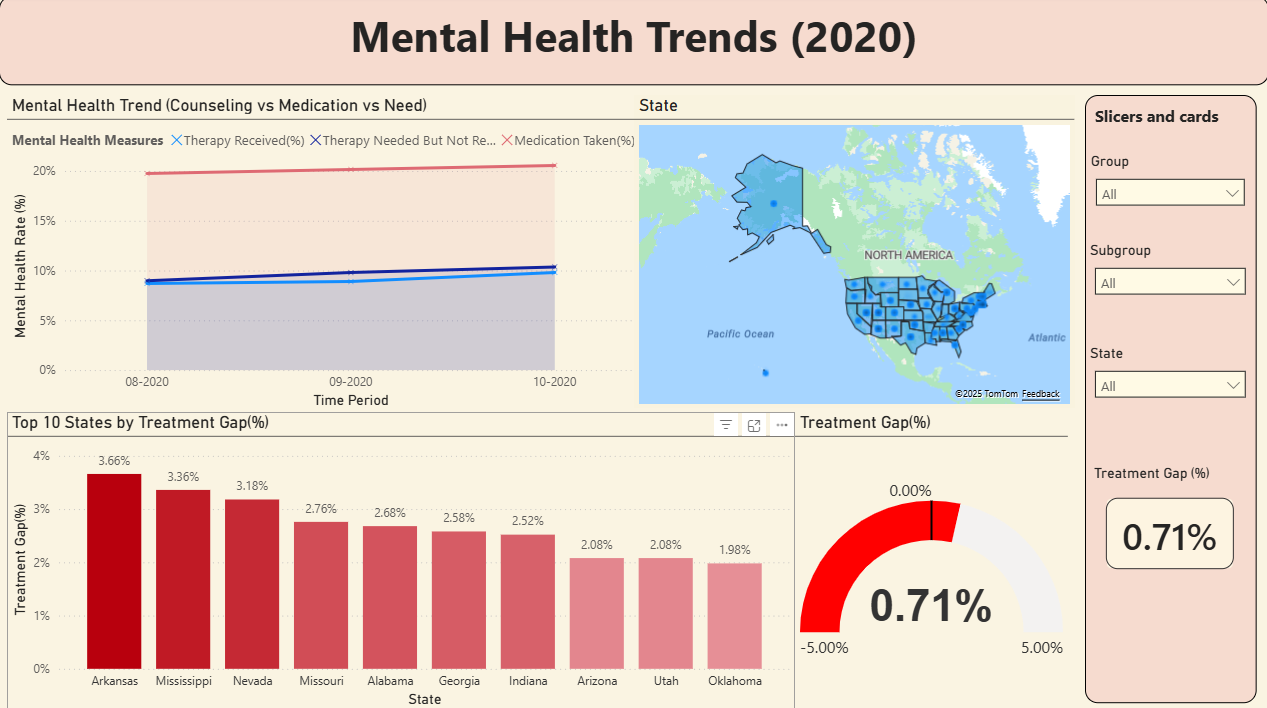

The dashboard page shown, as its layout file describes it:
{"tool":"powerbi","page":{"name":"Page 1","canvas":[1280,720],"ordinal":0},"visuals":[{"type":"lineChart","title":"Mental Health Trend (Counseling vs Medication vs Need)","fields":{"Category":["Calendar.YearMonth"],"Y":["Mental_Health_Care_in_the_Last_4_Weeks.TherapyReceived%","Mental_Health_Care_in_the_Last_4_Weeks.TherapyNeededButNotReceived%","Mental_Health_Care_in_the_Last_4_Weeks.MedicationTaken%"]},"box":[10.5,99.9,629.5,319.4],"z":0},{"type":"slicer","title":"State Filter","fields":{"Values":["Mental_Health_Care_in_the_Last_4_Weeks.State"]},"box":[1094.2,286.9,173.1,82.5],"z":1000},{"type":"slicer","title":"Group Filter","fields":{"Values":["Mental_Health_Care_in_the_Last_4_Weeks.Group"]},"box":[1094.2,99.9,170.7,82.5],"z":2000},{"type":"slicer","title":"Subgroup Filter","fields":{"Values":["Mental_Health_Care_in_the_Last_4_Weeks.Subgroup"]},"box":[1094.2,191.7,173.1,84.8],"z":3000},{"type":"textbox","box":[0,0,1280,89.7],"z":4000},{"type":"azureMap","fields":{"Category":["Mental_Health_Care_in_the_Last_4_Weeks.State"]},"box":[640,99.9,443.7,314.8],"z":5000},{"type":"cardVisual","title":"Treatment Gap (%)","fields":{"Data":["Mental_Health_Care_in_the_Last_4_Weeks.Treatment Gap(%)"]},"box":[1077.9,414.7,189.3,146.4],"z":6000},{"type":"clusteredColumnChart","title":"Top 10 States by Treatment Gap(%)","fields":{"Category":["Mental_Health_Care_in_the_Last_4_Weeks.State"],"Y":["Mental_Health_Care_in_the_Last_4_Weeks.Treatment Gap(%)"]},"box":[8.1,419.3,794.5,300.8],"z":7000},{"type":"gauge","fields":{"Y":["Mental_Health_Care_in_the_Last_4_Weeks.Treatment Gap(%)"]},"box":[802.3,419.3,275.1,285.2],"z":8000}]}

Visuals, with their boxes in screenshot pixels (x1, y1, x2, y2), scaled from the page's 1280x720 canvas onto the 1267x708 screenshot:
"Mental Health Trend (Counseling vs Medication vs Need)" lineChart: (x1=10, y1=98, x2=634, y2=412)
"State Filter" slicer: (x1=1083, y1=282, x2=1254, y2=363)
"Group Filter" slicer: (x1=1083, y1=98, x2=1252, y2=179)
"Subgroup Filter" slicer: (x1=1083, y1=189, x2=1254, y2=272)
textbox: (x1=0, y1=0, x2=1266, y2=88)
azureMap - Mental_Health_Care_in_the_Last_4_Weeks.State: (x1=634, y1=98, x2=1073, y2=408)
"Treatment Gap (%)" cardVisual: (x1=1067, y1=408, x2=1254, y2=552)
"Top 10 States by Treatment Gap(%)" clusteredColumnChart: (x1=8, y1=412, x2=794, y2=707)
gauge - Mental_Health_Care_in_the_Last_4_Weeks.Treatment Gap(%): (x1=794, y1=412, x2=1066, y2=693)
